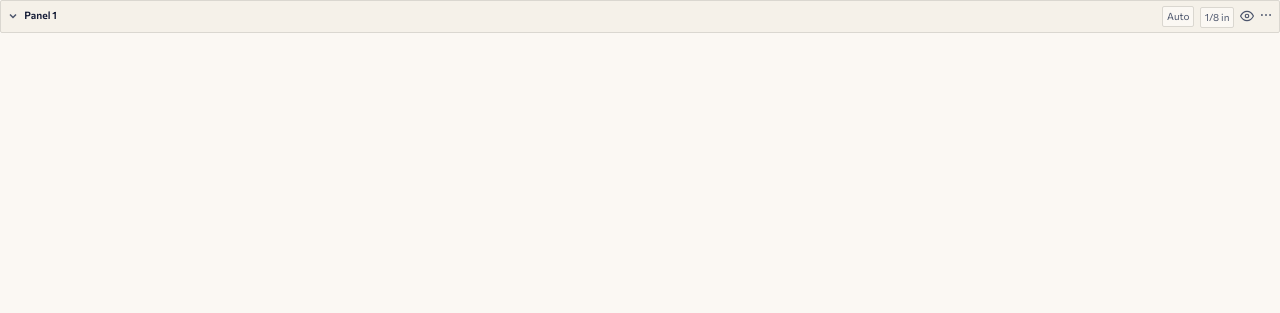
Test case: PanelHeader — material chip + popover (auto-collapse) › chip reads 'Auto' by default and opens a listbox with Auto first + the catalog
This screenshot has width=1280, height=313.
Click the button with aria-label "Panel material". click: coordinates (1178, 16)
box: x1=1162 y1=6 x2=1194 y2=27
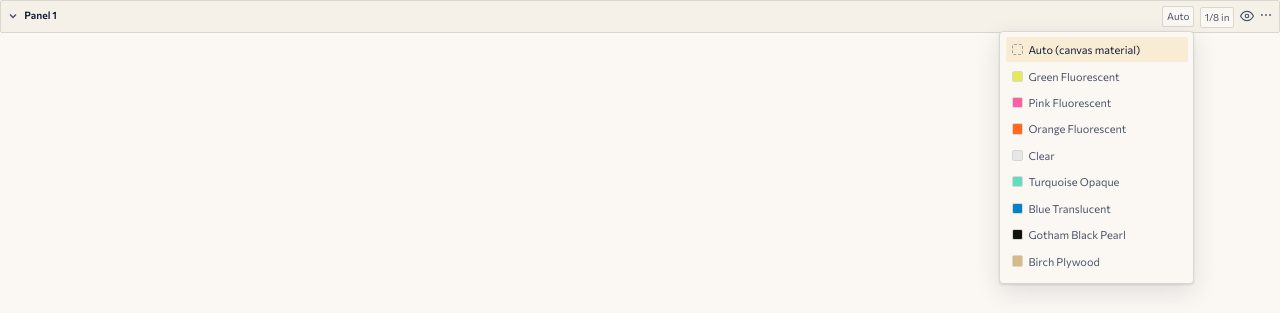
Expected: the option "Auto (canvas material)" is shown, x1=1006 y1=37 x2=1188 y2=62
Expected: the text "Green Fluorescent" is shown, x1=1028 y1=68 x2=1120 y2=85
